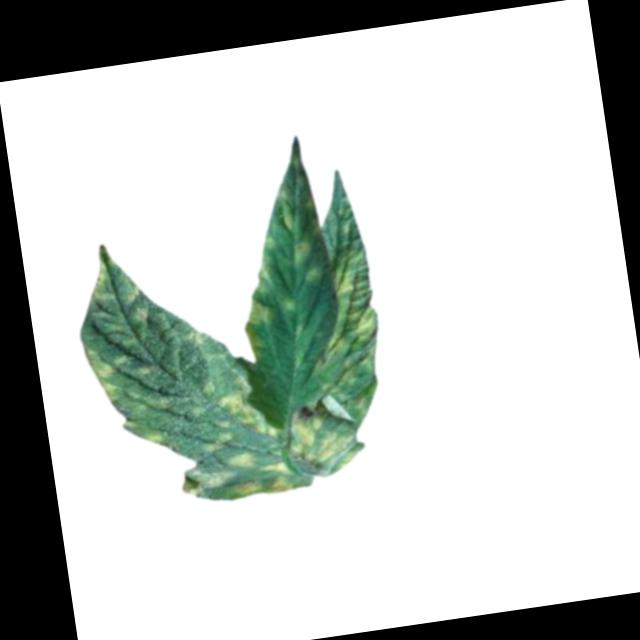Leaf_Mold: (269, 247, 401, 482), (167, 366, 292, 508), (81, 338, 167, 456), (238, 291, 279, 362), (291, 238, 322, 260)
